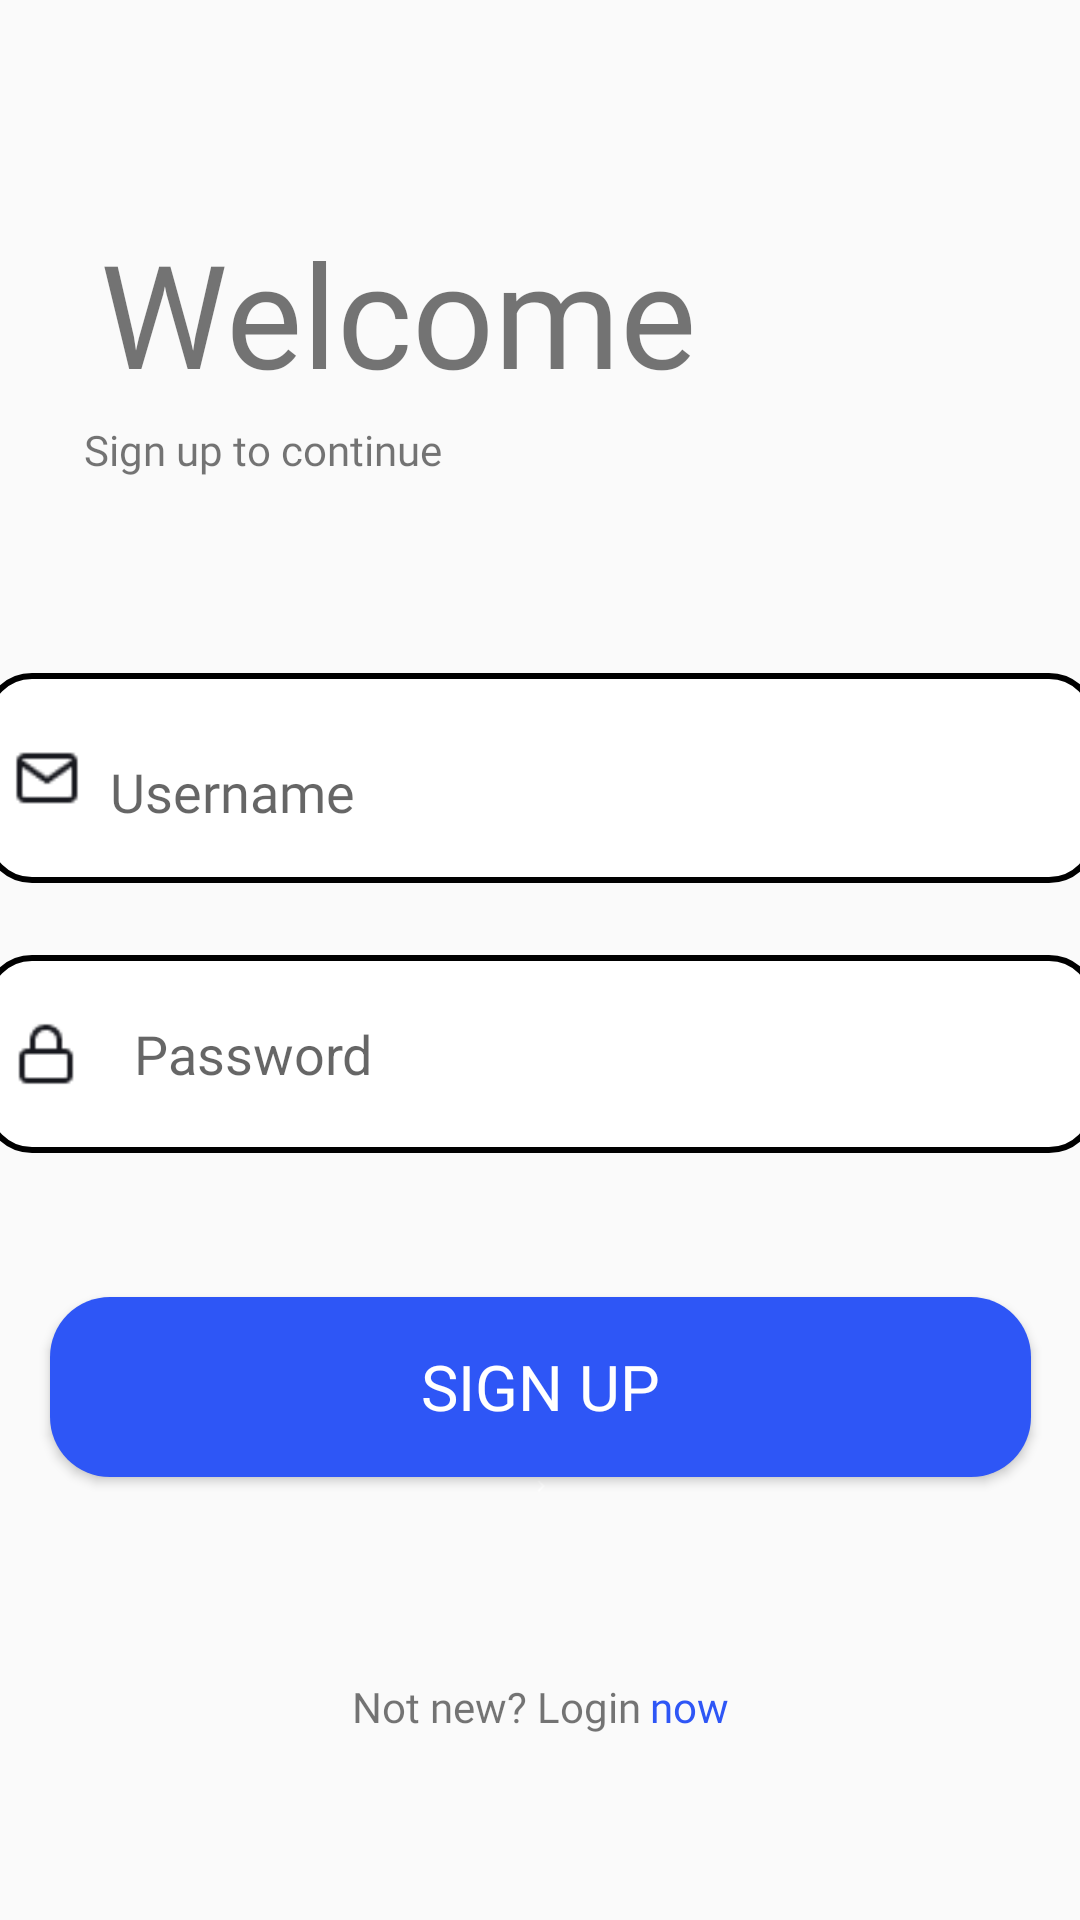

Icon click points for this 1080 × 1920 phone screenshot, format (x=x, y=y):
lock: (x=46, y=1054)
mail: (x=47, y=778)
